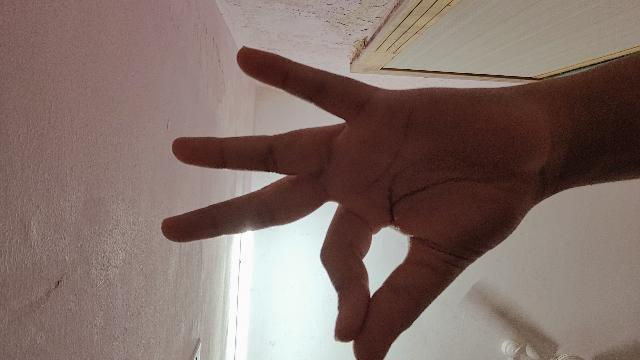hansaasya: (159, 47, 640, 360)
